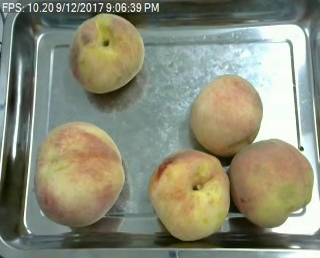Peach: (34, 121, 126, 228), (149, 146, 231, 241), (229, 138, 312, 227), (68, 12, 144, 93), (192, 74, 265, 155)
